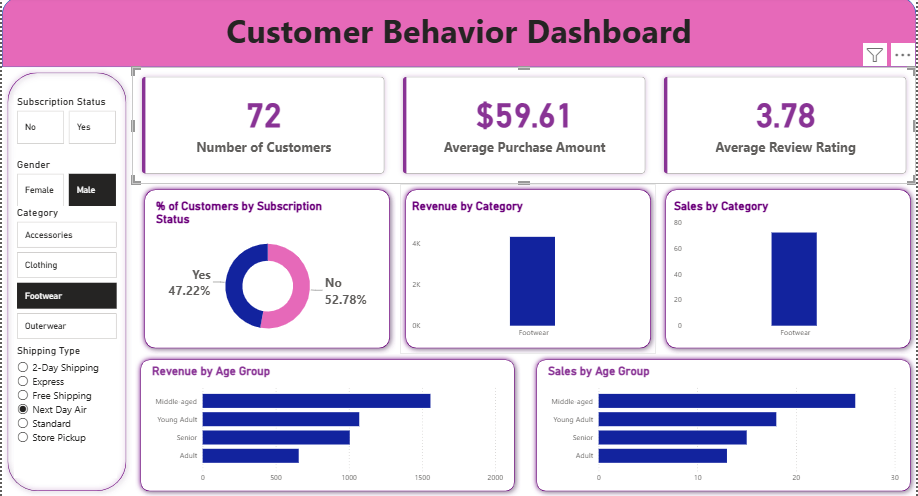

Layout of this report page (visuals, bound fields, positions):
{"tool":"powerbi","page":{"name":"Page 1","canvas":[1500,820],"ordinal":0},"visuals":[{"type":"cardVisual","fields":{"Data":["public customer.Number of Customers","public customer.Average Purchase Amount","public customer.Average Review Rating"]},"box":[212.9,115.3,1286.5,191.6],"z":2000},{"type":"shape","box":[218.3,585.6,631.7,234.2],"z":2500,"group":"g1"},{"type":"shape","box":[0,0,1499.4,115.3],"z":3000},{"type":"textbox","box":[0,12.4,1499.4,102.9],"z":4000},{"type":"shape","box":[225.4,307,420.5,278.6],"z":5000},{"type":"donutChart","title":"% of Customers by Subscription Status","fields":{"Category":["public customer.subscription_status"],"Y":["CountNonNull(public customer.customer_id)"]},"box":[248.4,331.8,376.2,237.8],"z":6000},{"type":"shape","box":[1078.9,307,420.5,278.6],"z":7000},{"type":"shape","box":[652.1,307,420.5,278.6],"z":8000},{"type":"clusteredColumnChart","title":"Revenue by Category","fields":{"Y":["Sum(public customer.purchase_amount)"],"Category":["public customer.category"]},"box":[667.2,331.8,385.1,237.8],"z":9000},{"type":"clusteredColumnChart","title":"Sales by Category","fields":{"Y":["CountNonNull(public customer.customer_id)"],"Category":["public customer.category"]},"box":[1096.6,331.8,385.1,237.8],"z":10000},{"type":"shape","box":[0,115.3,212.9,704.5],"z":11000},{"type":"advancedSlicerVisual","fields":{"Values":["public customer.subscription_status"]},"box":[19.5,161.5,173.9,85.2],"z":12000},{"type":"advancedSlicerVisual","fields":{"Values":["public customer.gender"]},"box":[19.5,264.4,173.9,85.2],"z":13000},{"type":"advancedSlicerVisual","fields":{"Values":["public customer.category"]},"box":[19.7,342.8,173.8,226.3],"z":14000},{"type":"listSlicer","fields":{"Values":["public customer.shipping_type"]},"box":[19.7,569.1,168.9,219.8],"z":15000},{"type":"shape","box":[867.7,585.6,631.7,234.2],"z":16000},{"type":"clusteredBarChart","title":"Sales by Age Group","fields":{"Y":["CountNonNull(public customer.customer_id)"],"Category":["public customer.age_group"]},"box":[890.8,601.5,585.6,204.1],"z":17000},{"type":"clusteredBarChart","title":"Revenue by Age Group","fields":{"Y":["Sum(public customer.purchase_amount)"],"Category":["public customer.age_group"]},"box":[241.4,601.6,585.6,204.1],"z":17500,"group":"g1"},{"type":"group","id":"g1","title":"Group 1","box":[218.3,585.6,631.7,234.2],"z":17501}]}

Visuals, with their boxes in screenshot pixels (x1, y1, x2, y2), scaled from the page's 1500x820 canvas onto the 918x496 screenshot:
cardVisual - public customer.Number of Customers x public customer.Average Purchase Amount: locate(130, 70, 917, 186)
shape: locate(134, 354, 520, 495)
shape: locate(0, 0, 917, 70)
textbox: locate(0, 8, 917, 70)
shape: locate(138, 186, 395, 354)
"% of Customers by Subscription Status" donutChart: locate(152, 201, 382, 345)
shape: locate(660, 186, 917, 354)
shape: locate(399, 186, 656, 354)
"Revenue by Category" clusteredColumnChart: locate(408, 201, 644, 345)
"Sales by Category" clusteredColumnChart: locate(671, 201, 907, 345)
shape: locate(0, 70, 130, 495)
advancedSlicerVisual - public customer.subscription_status: locate(12, 98, 118, 149)
advancedSlicerVisual - public customer.gender: locate(12, 160, 118, 211)
advancedSlicerVisual - public customer.category: locate(12, 207, 118, 344)
listSlicer - public customer.shipping_type: locate(12, 344, 115, 477)
shape: locate(531, 354, 917, 495)
"Sales by Age Group" clusteredBarChart: locate(545, 364, 904, 487)
"Revenue by Age Group" clusteredBarChart: locate(148, 364, 506, 487)
"Group 1" group: locate(134, 354, 520, 495)
